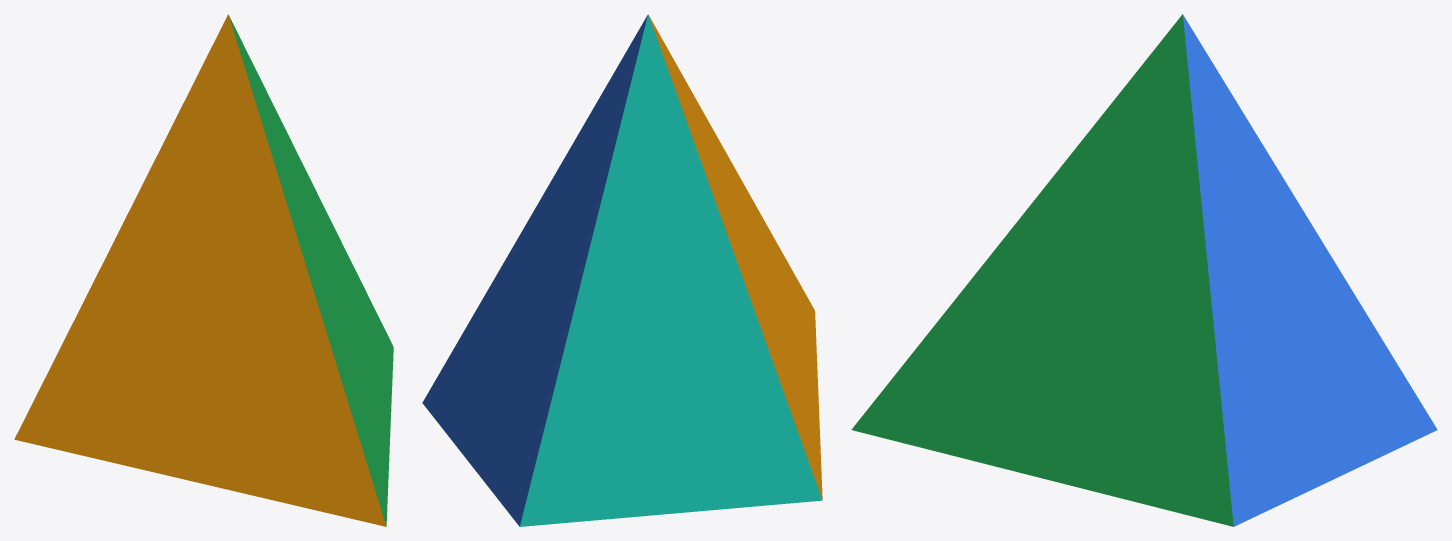
Rendered from limas-layang-layang.glb.
The picture shows the model from 3 angles, left to right: view 1: azimuth 30°, elevation 25°; view 2: azimuth 150°, elevation 25°; view 3: azimuth 270°, elevation 25°; orthographic projection. The views are drawn at different scales.
Parts seen in each view (by area): view 1: tegak3, tegak2; view 2: tegak4, tegak1, tegak3; view 3: tegak2, tegak1.
Boxes of the visible parts, bbox=[...] form: tegak3: bbox=[14, 14, 386, 526]; tegak2: bbox=[228, 15, 393, 526]; tegak4: bbox=[520, 14, 822, 526]; tegak1: bbox=[422, 15, 647, 526]; tegak3: bbox=[648, 15, 822, 499]; tegak2: bbox=[851, 14, 1233, 526]; tegak1: bbox=[1182, 14, 1437, 526].
Bounding box in the file's own units: 1.8 × 1.8 × 2.3.
